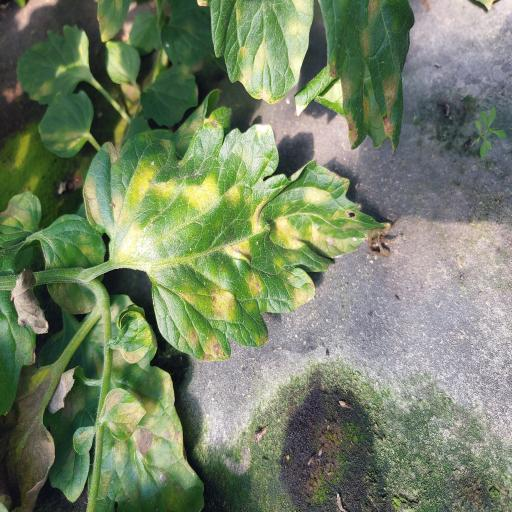Leaf Mold: (82, 119, 390, 362), (48, 294, 205, 512), (318, 0, 415, 152), (0, 190, 49, 417), (210, 0, 314, 105), (41, 212, 106, 315), (14, 24, 89, 105), (38, 90, 94, 158), (101, 389, 147, 441), (119, 310, 152, 366), (161, 370, 182, 448)
